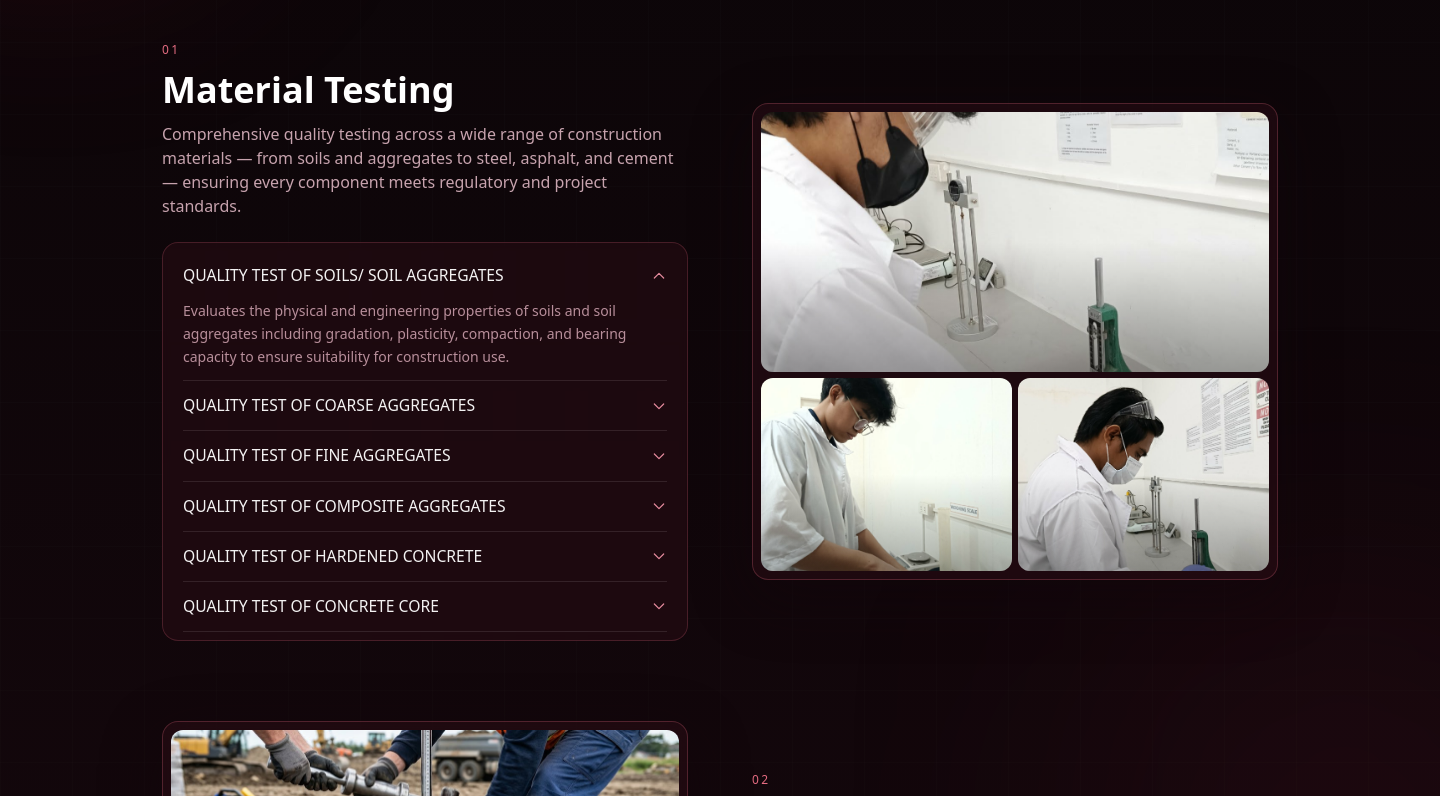
Scenario: Services Section (Editorial Layout) › toggles accordion panel state when a sub-service is clicked
The width and height of the screenshot is (1440, 796).
(page scrolled)
Click the button "QUALITY TEST OF COARSE AGGREGATES" at (425, 406), box [183,381,667,430]
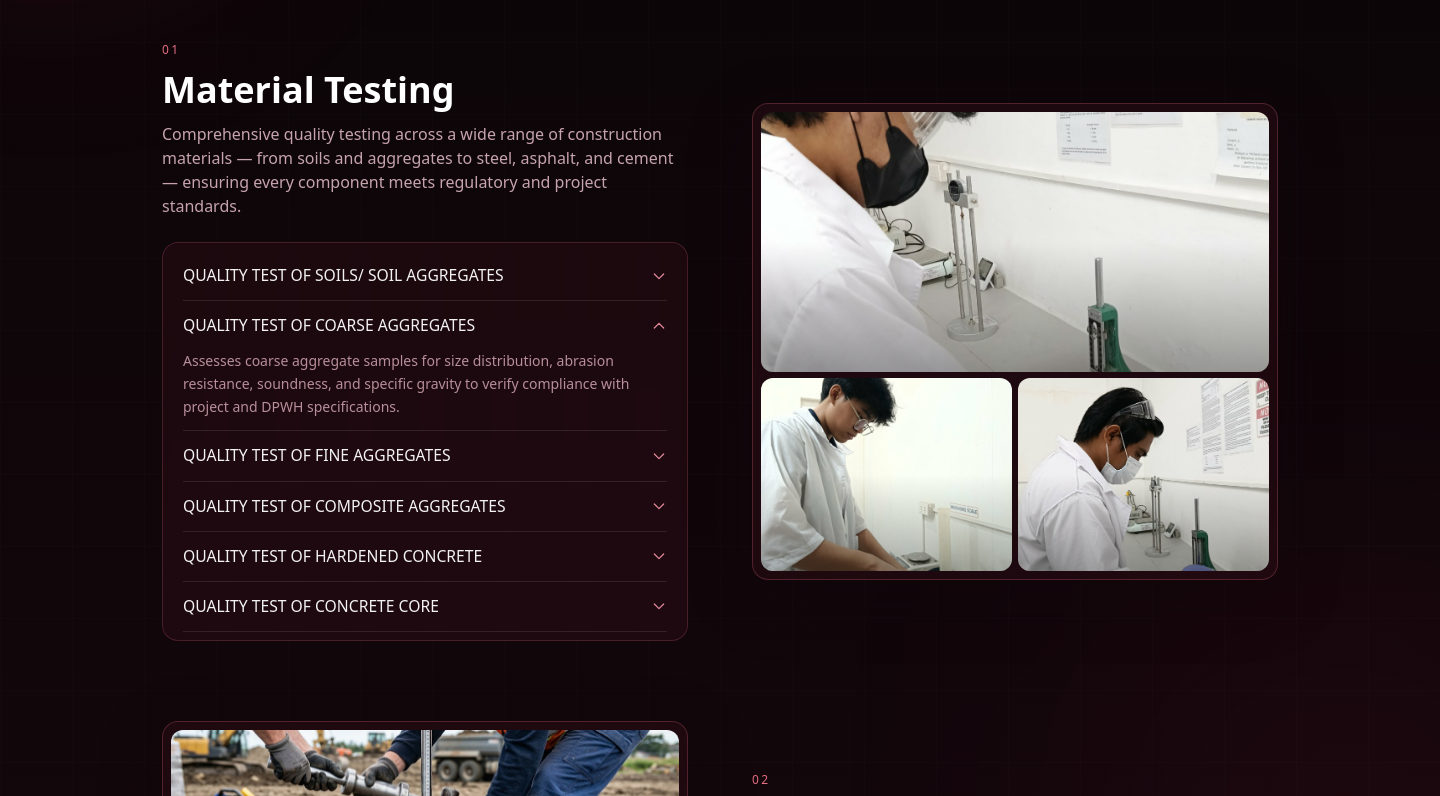
Expected: the button "QUALITY TEST OF COARSE AGGREGATES" is expanded, [183,301,667,350]
Expected: the text "Assesses coarse aggregate samples for size distribution" is shown, [183,351,629,416]
